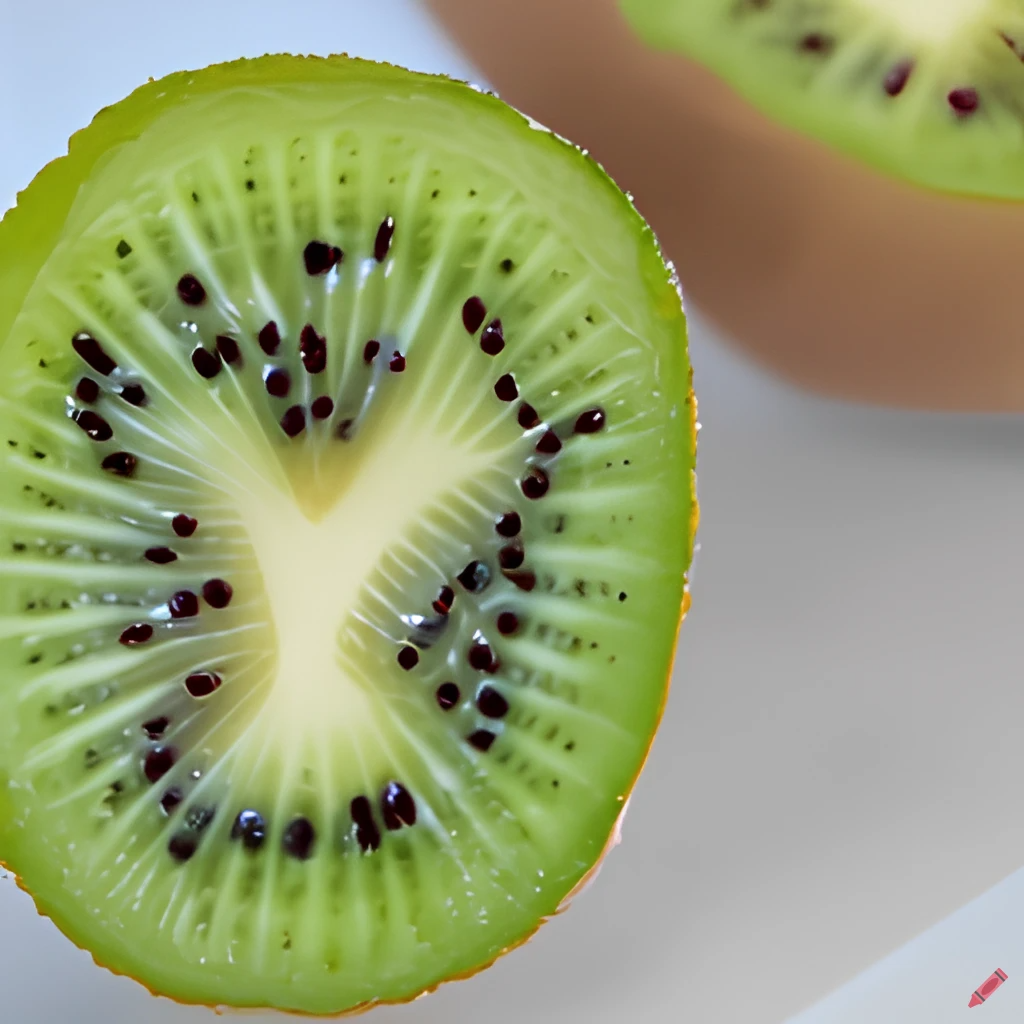Kiwi: (0, 46, 694, 1024)
